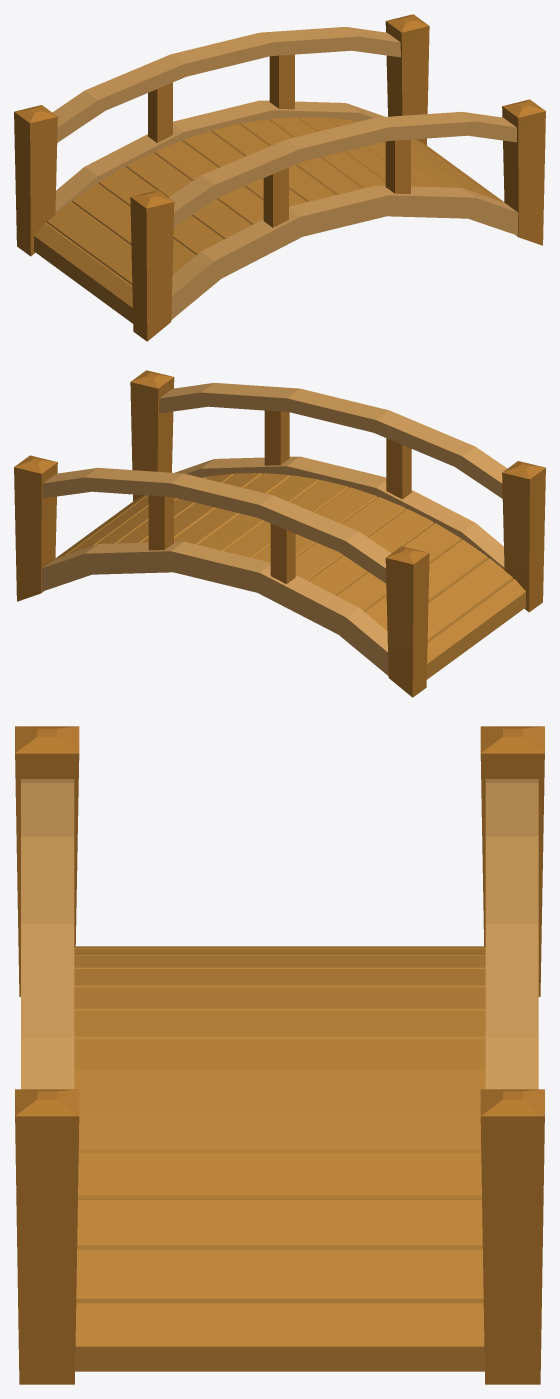
The model's file is Bridge.fbx.
The picture shows the model from 3 angles, top to bottom: view 1: azimuth 30°, elevation 25°; view 2: azimuth 150°, elevation 25°; view 3: azimuth 270°, elevation 25°; orthographic projection. The views are drawn at different scales.
Parts seen in each view (by area): view 1: Bridge; view 2: Bridge; view 3: Bridge.
Boxes of the visible parts, x1=… form: Bridge: x1=14, y1=14, x2=545, y2=341; Bridge: x1=14, y1=370, x2=545, y2=697; Bridge: x1=15, y1=726, x2=544, y2=1384.
Size of the model in its own units: 270 by 101 by 155.
Materials: 1 (1 with a texture image).
